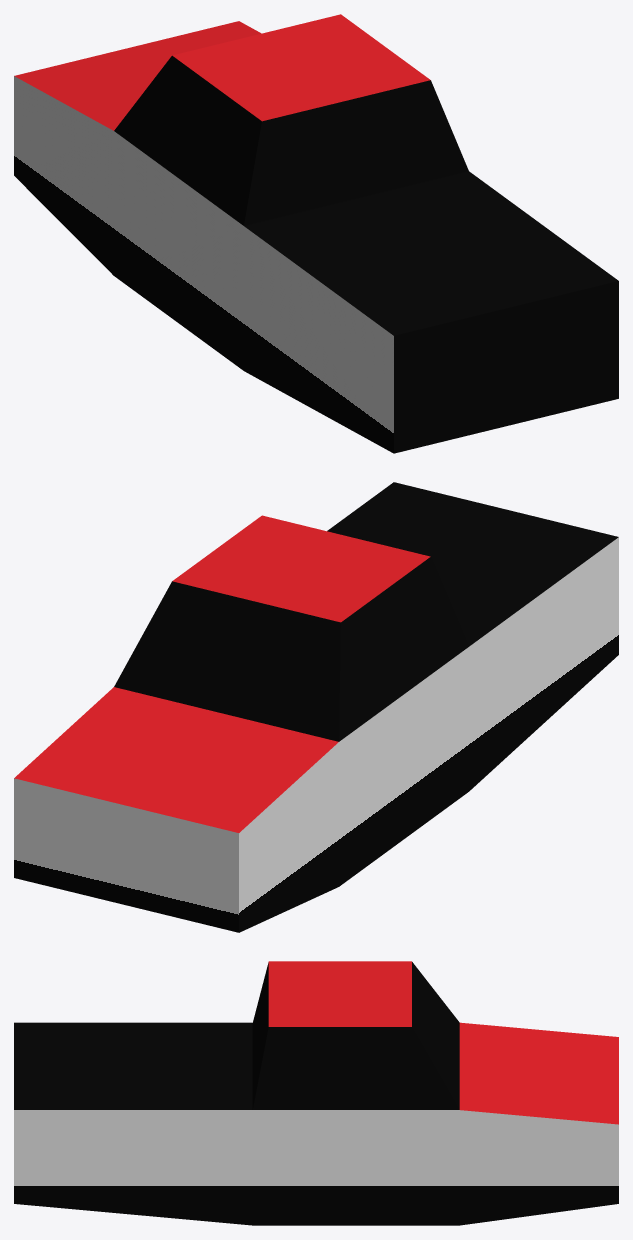
Rendered from chassis.gltf.
The picture shows the model from 3 angles, top to bottom: view 1: azimuth 30°, elevation 25°; view 2: azimuth 150°, elevation 25°; view 3: azimuth 270°, elevation 25°; orthographic projection. The views are drawn at different scales.
Visible parts, largest first — view 1: Cube; view 2: Cube; view 3: Cube.
Boxes of the visible parts, x1,y1,x2,y2 form: Cube: (14, 14, 618, 453); Cube: (14, 482, 618, 932); Cube: (14, 961, 618, 1225).
Size of the model in its own units: 0.26 by 0.26 by 0.76.
1 material, 1 textured.
